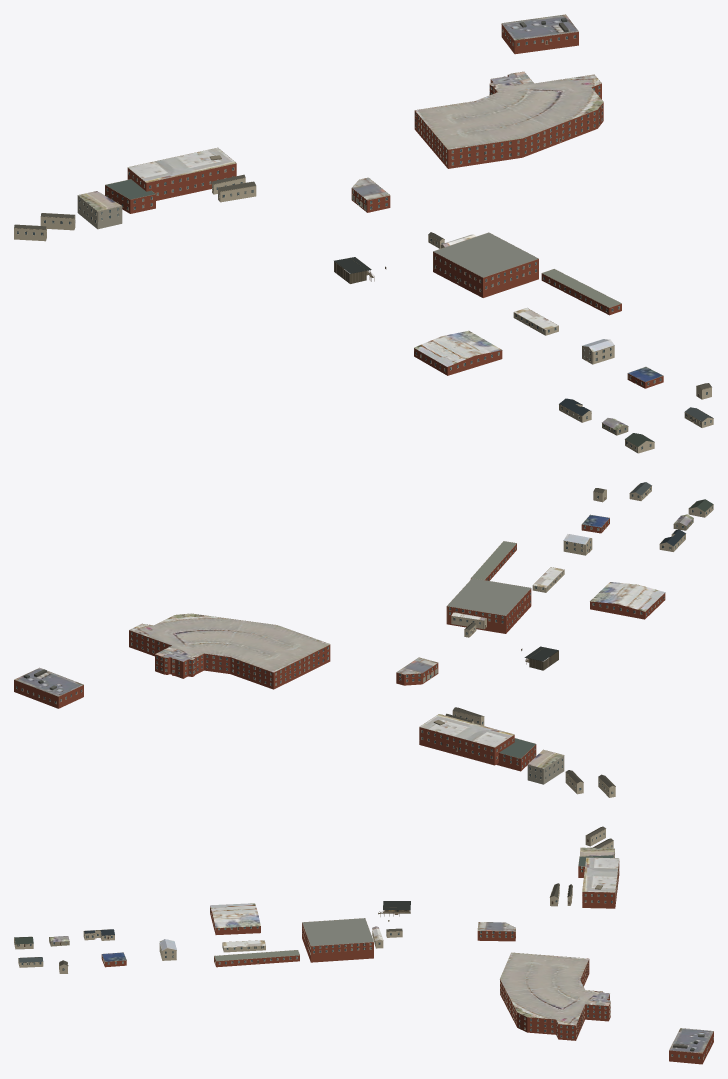
The picture shows the model from 3 angles, top to bottom: view 1: azimuth 30°, elevation 25°; view 2: azimuth 150°, elevation 25°; view 3: azimuth 270°, elevation 25°; orthographic projection. The views are drawn at different scales.
Visible parts, largest first — view 1: -1_4_419637250_0, -1_4_599064489_10, -1_4_599061338_3, -1_4_-4202_43, -1_4_599060871_2; view 2: -1_4_419637250_0, -1_4_599064489_10, -1_4_599061338_3, -1_4_599060871_2, -1_4_-4202_43; view 3: -1_4_419637250_0, -1_4_599064489_10, -1_4_599061338_3, -1_4_599060871_2.
Boxes of the visible parts, bbox=[...] form: -1_4_419637250_0: bbox=[16, 14, 713, 450]; -1_4_599064489_10: bbox=[14, 174, 712, 446]; -1_4_599061338_3: bbox=[14, 177, 713, 453]; -1_4_-4202_43: bbox=[77, 195, 122, 229]; -1_4_599060871_2: bbox=[334, 257, 386, 283]; -1_4_419637250_0: bbox=[14, 484, 713, 794]; -1_4_599064489_10: bbox=[446, 482, 713, 787]; -1_4_599061338_3: bbox=[445, 486, 713, 797]; -1_4_599060871_2: bbox=[521, 646, 558, 670]; -1_4_-4202_43: bbox=[527, 756, 564, 784]; -1_4_419637250_0: bbox=[15, 827, 713, 1064]; -1_4_599064489_10: bbox=[14, 826, 613, 965]; -1_4_599061338_3: bbox=[14, 829, 613, 973]; -1_4_599060871_2: bbox=[378, 901, 410, 921].
Bounding box in the file's own units: 407 × 29.47 × 501.
Materials: 26 (1 with a texture image).
